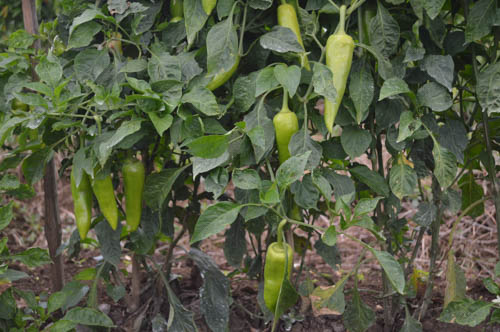ChiliPepper: (320, 33, 355, 135), (258, 244, 292, 318), (277, 2, 309, 68), (116, 163, 146, 231), (268, 113, 302, 170), (88, 172, 118, 230), (71, 168, 93, 241), (204, 52, 240, 94)
